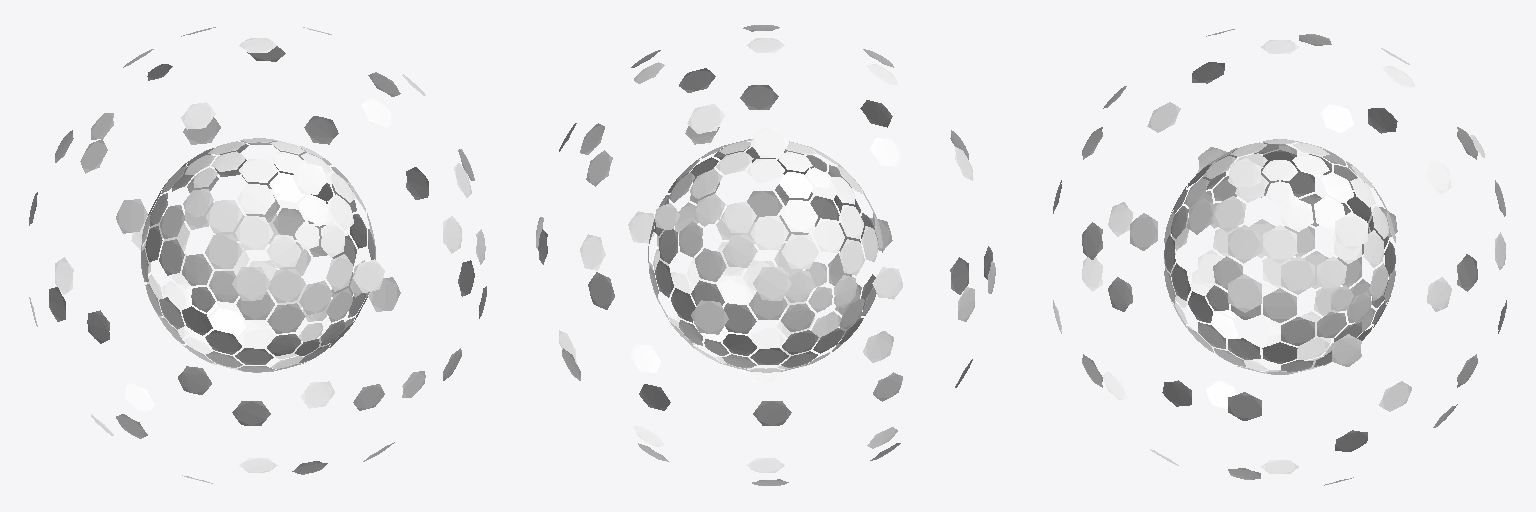
File: hexx01.obj
3 views of the same model, side by side, from view 1: azimuth 30°, elevation 25°; view 2: azimuth 150°, elevation 25°; view 3: azimuth 270°, elevation 25° (orthographic).
Parts seen in each view (by area): view 1: Subdivision_Surface; view 2: Subdivision_Surface; view 3: Subdivision_Surface.
Part boxes in pixels (bbox=[...]): Subdivision_Surface: bbox=[29, 27, 486, 483]; Subdivision_Surface: bbox=[536, 25, 995, 485]; Subdivision_Surface: bbox=[1053, 29, 1506, 485].
Size of the model in its own units: 384 by 389 by 380.